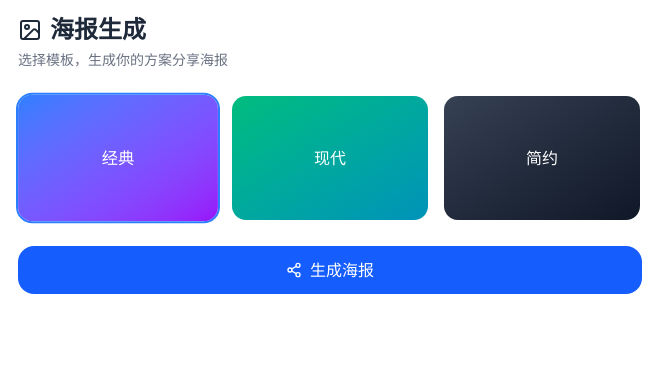
Scenario: PosterPreviewPage › shows a safe failure message when poster generation request fails
Click the button "生成海报": {"x": 330, "y": 270} top-left (18, 246), bottom-right (642, 294)
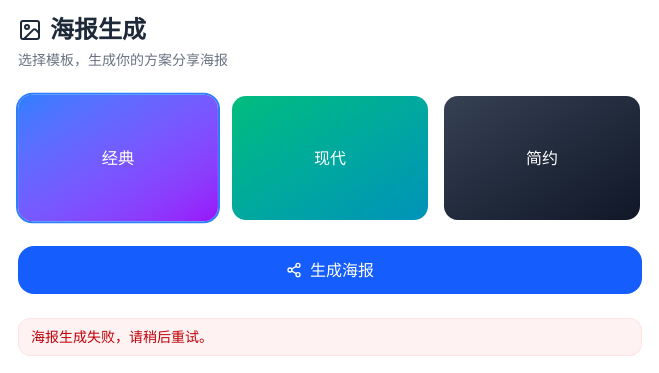
expect the message reads "海报生成失败，请稍后重试。": met, box top-left (31, 328), bottom-right (213, 345)
